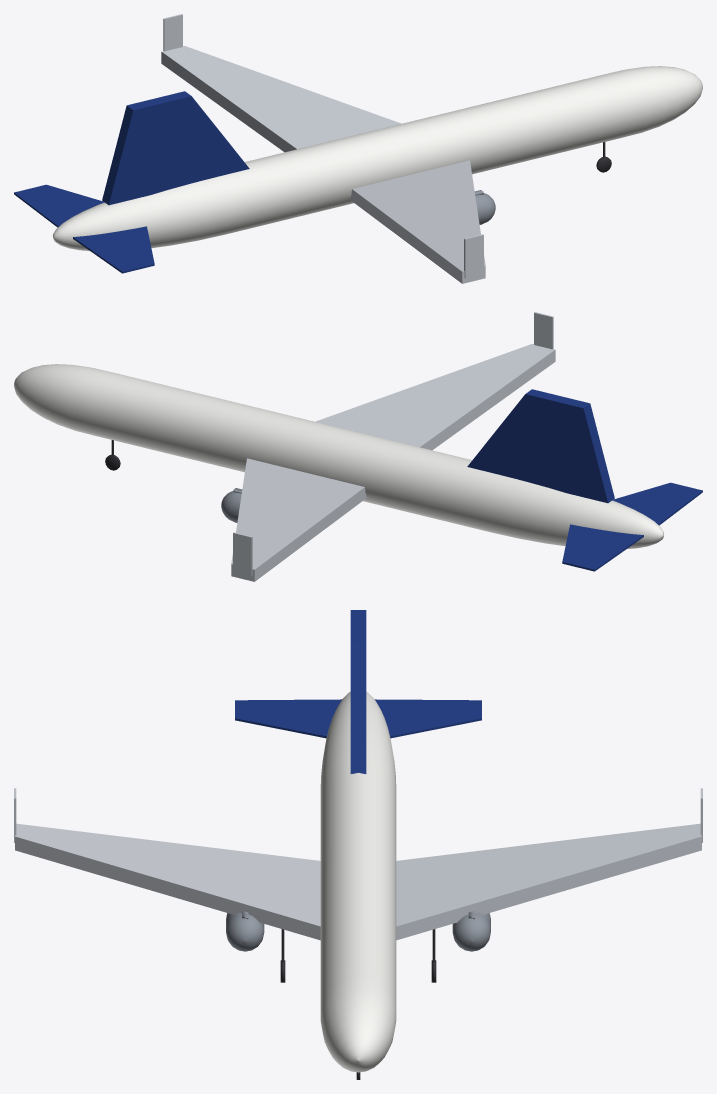
3 views of the same model, one above another, from view 1: azimuth 30°, elevation 25°; view 2: azimuth 150°, elevation 25°; view 3: azimuth 270°, elevation 25° (orthographic). The views are drawn at different scales.
Visible parts, largest first — view 1: fuselage, wings, tail, engines; view 2: fuselage, wings, tail, engines; view 3: wings, fuselage, tail, engines.
Boxes of the visible parts, <box> form: fuselage: <box>53,66,702,250</box>; wings: <box>161,14,485,283</box>; tail: <box>14,91,249,273</box>; engines: <box>474,190,495,224</box>; fuselage: <box>14,364,663,548</box>; wings: <box>231,312,555,581</box>; tail: <box>467,389,702,571</box>; engines: <box>221,488,242,522</box>; wings: <box>14,788,702,940</box>; fuselage: <box>320,691,396,1072</box>; tail: <box>235,610,481,773</box>; engines: <box>226,911,490,951</box>.
Size of the model in its own units: 44.5 by 11.79 by 35.92.
